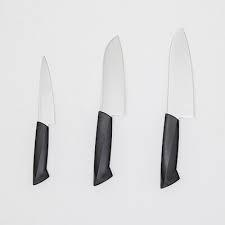Knife: (160, 27, 194, 188), (93, 34, 124, 185), (32, 55, 55, 185)
